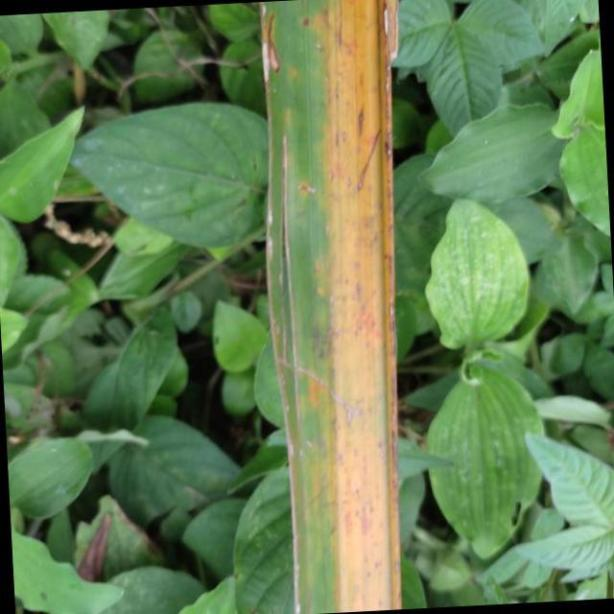Megnesium: (261, 0, 401, 614)
